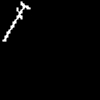double_crochet: (3, 2, 29, 40)
